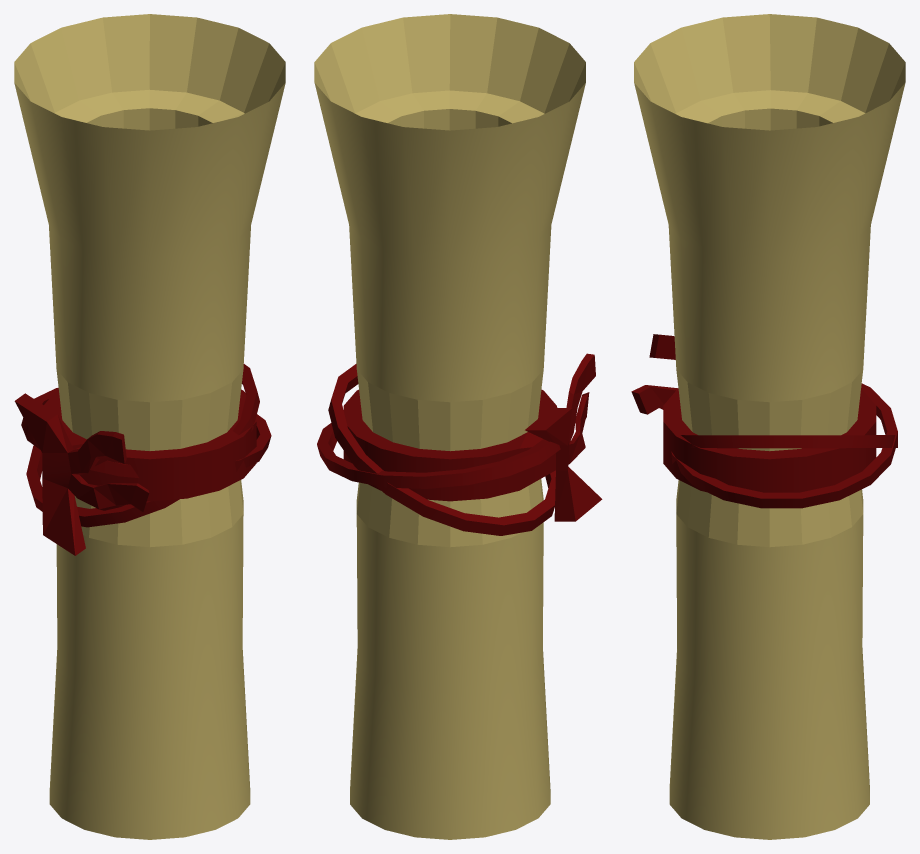
File: scroll 1.FBX
3 renders of one model, left to right at view 1: azimuth 30°, elevation 25°; view 2: azimuth 150°, elevation 25°; view 3: azimuth 270°, elevation 25°, orthographic.
Parts seen in each view (by area): view 1: Cylinder001; view 2: Cylinder001; view 3: Cylinder001.
Part boxes in pixels (left/top/right/bottom): Cylinder001: left=14, top=14, right=285, bottom=839; Cylinder001: left=314, top=14, right=602, bottom=839; Cylinder001: left=631, top=14, right=905, bottom=839.
Size of the model in its own units: 10.01 by 29.01 by 9.95.
